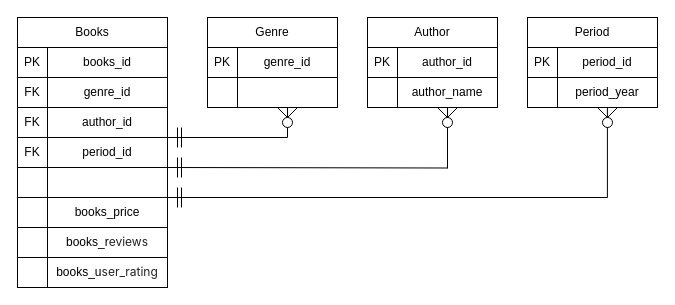
This 675x305 diagram has some shape labels left out. The centre of each missing label's shape, as x and y in pixels:
books_name: [107,182]
genre_name: [287,92]
